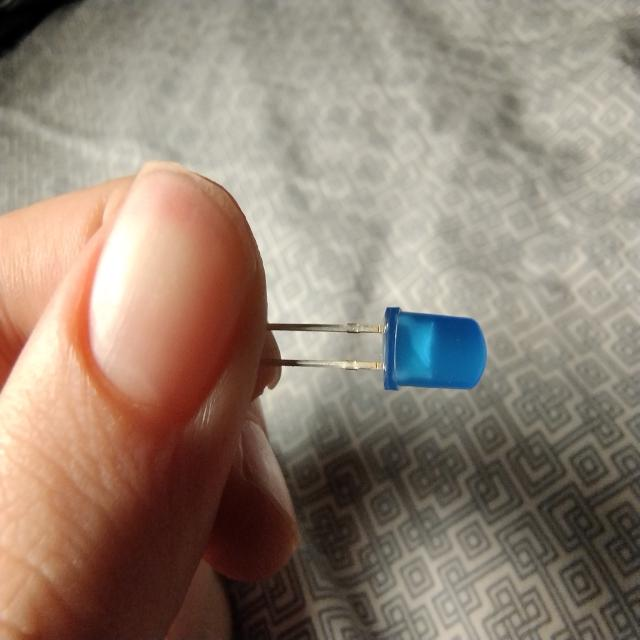blue_led: (261, 296, 493, 410)
